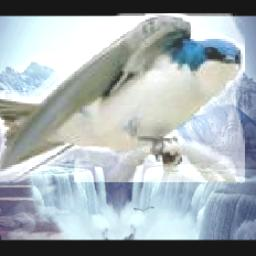Swallow: (0, 14, 244, 183)
